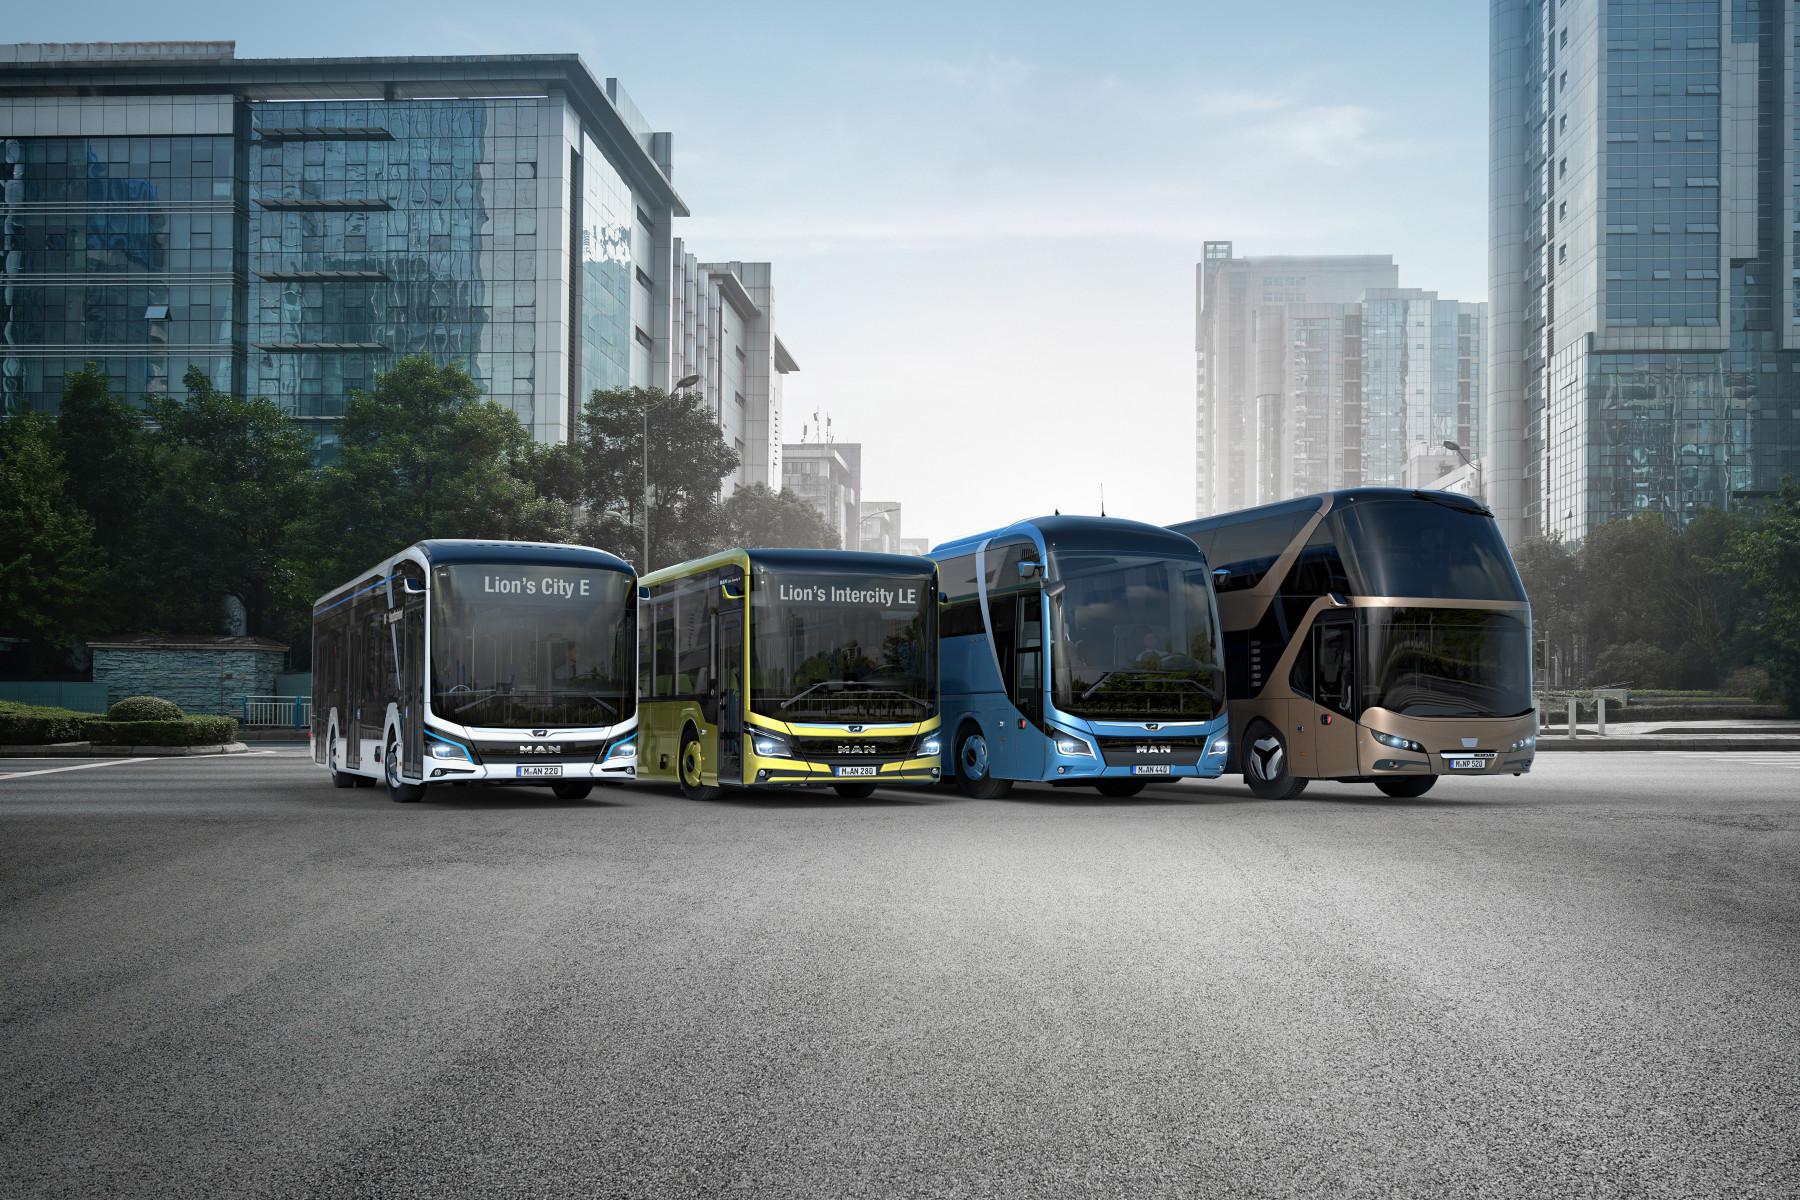bus: (1137, 483, 1547, 821), (921, 482, 1236, 810), (303, 529, 654, 813), (637, 526, 947, 805)
